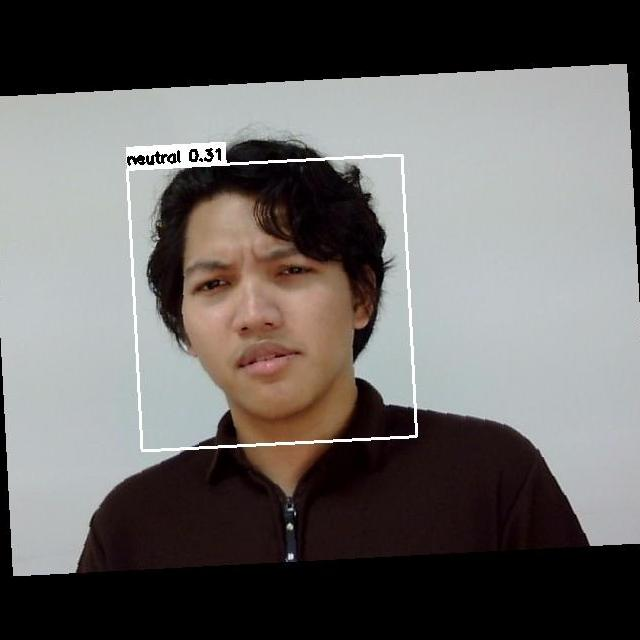Fear: (172, 240, 355, 391)
